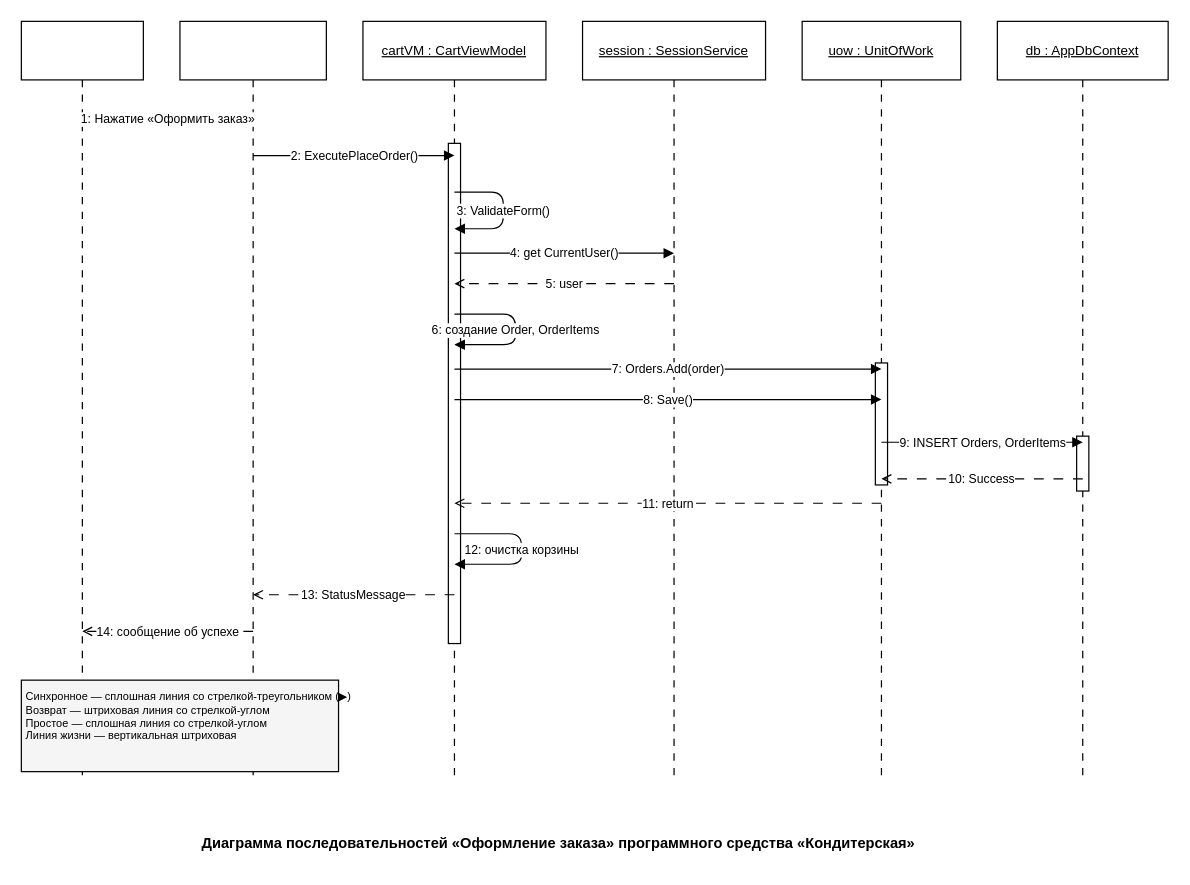
The diagram is 1190 pixels wide and 885 high, and some of its shapes have lost their labels. The shapes that lost their labels are listed below. From the top down, each one's centre as x and y in pixels, then its label:
the point at 81,50: client : Клиент
the point at 252,50: cartView : CartView
